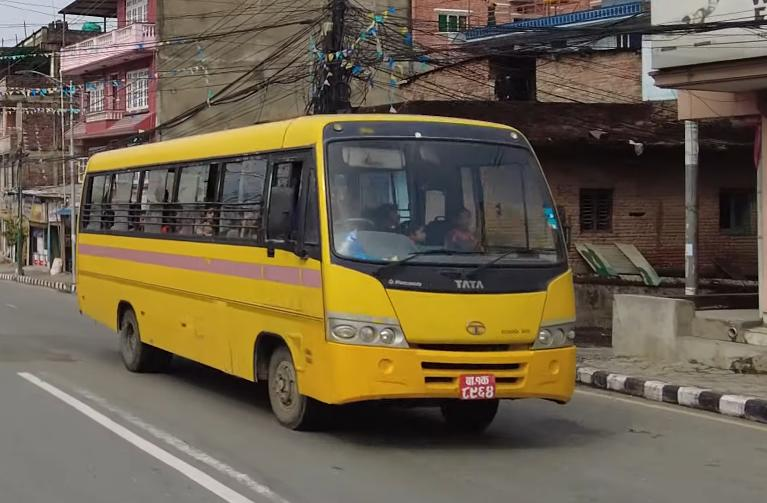school_bus: (69, 107, 586, 444)
